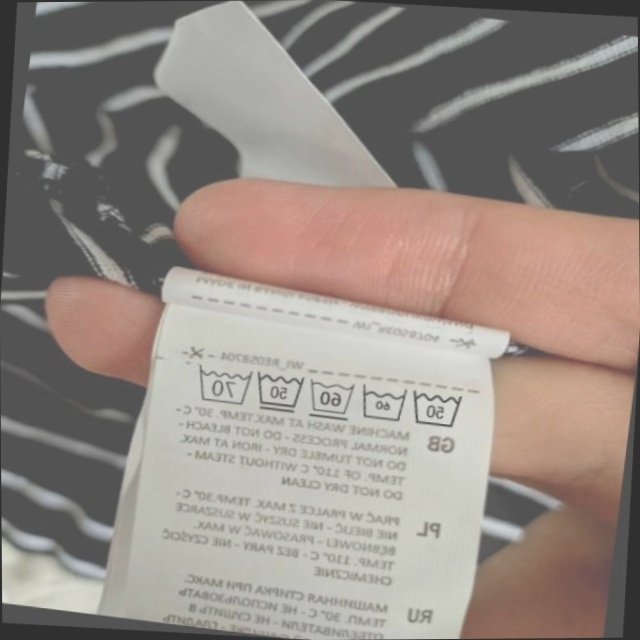50C: (406, 382, 464, 433), (250, 368, 305, 416)
60C: (303, 375, 357, 422), (355, 382, 409, 425)
70C: (190, 361, 253, 411)
